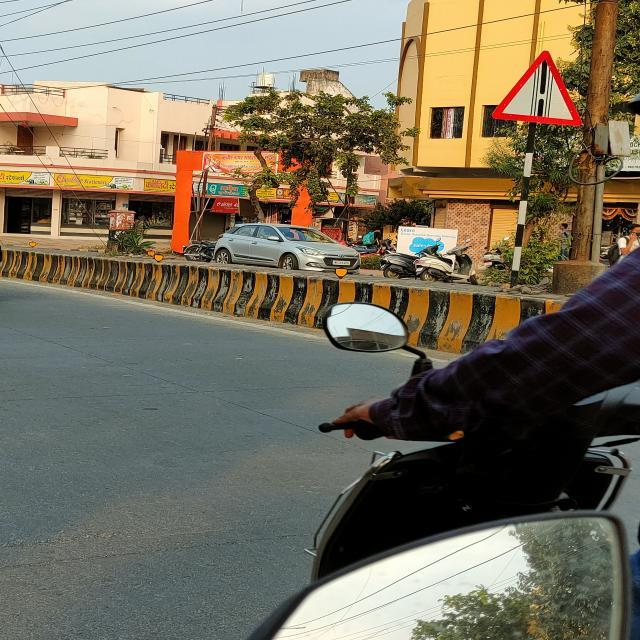gap in median: (487, 46, 585, 129)
